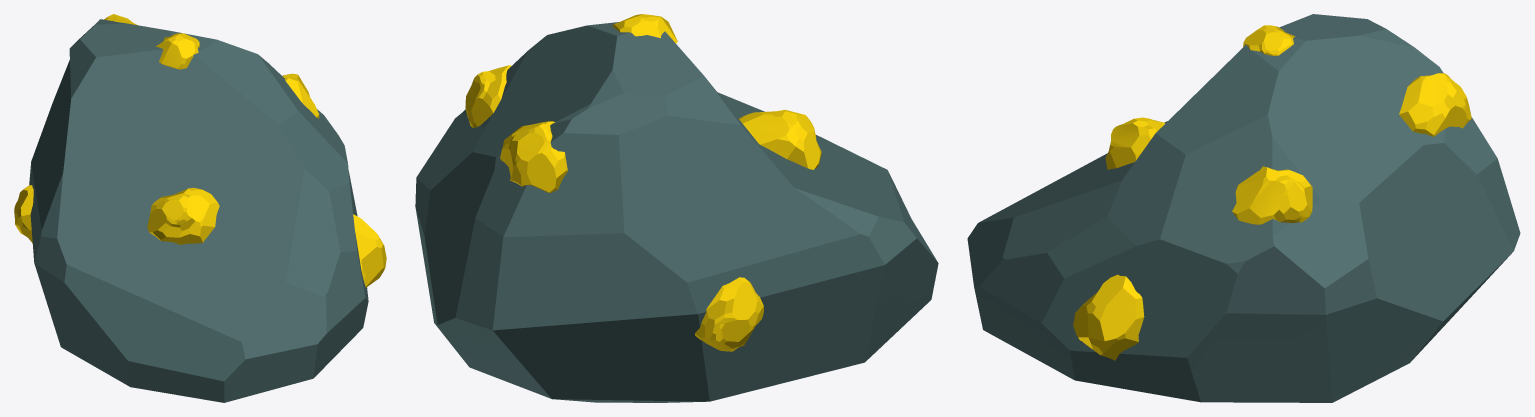
Rendered from Gold1.fbx.
3 renders of one model, left to right at view 1: azimuth 30°, elevation 25°; view 2: azimuth 150°, elevation 25°; view 3: azimuth 270°, elevation 25°, orthographic. The views are drawn at different scales.
Parts seen in each view (by area): view 1: Rock, Nodes; view 2: Rock, Nodes; view 3: Rock, Nodes.
Part boxes in pixels (x1,y1,x2,y2): Rock: [29, 19, 368, 402]; Nodes: [14, 14, 386, 287]; Rock: [415, 22, 938, 402]; Nodes: [465, 14, 821, 351]; Rock: [967, 14, 1520, 402]; Nodes: [1073, 25, 1471, 360].
Size of the model in its own units: 155 by 128 by 198.
